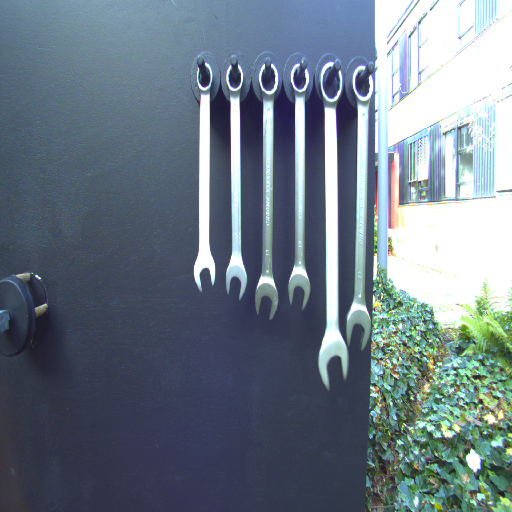bottom: (316, 332, 351, 393), (344, 298, 370, 353), (188, 250, 220, 294), (222, 255, 250, 305), (252, 275, 281, 323), (287, 266, 312, 314)
top: (317, 59, 346, 107), (349, 61, 378, 107), (255, 55, 281, 99), (287, 60, 311, 99), (224, 60, 246, 98), (194, 59, 215, 96)
